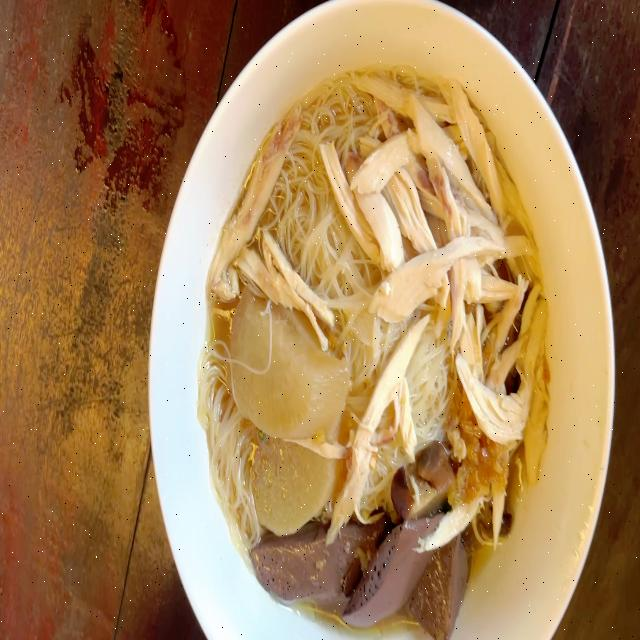boiled_chicken_blood_jelly: (288, 530, 465, 616)
chicken_shredded: (405, 114, 531, 494)
daikon_radish: (232, 295, 344, 427), (236, 422, 342, 525)
noodle: (213, 70, 531, 640)
